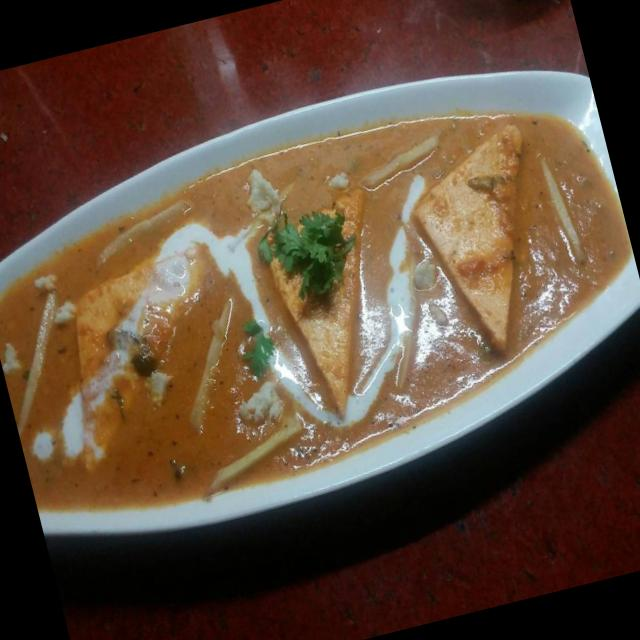ShahiPaneer: (0, 75, 640, 540)
